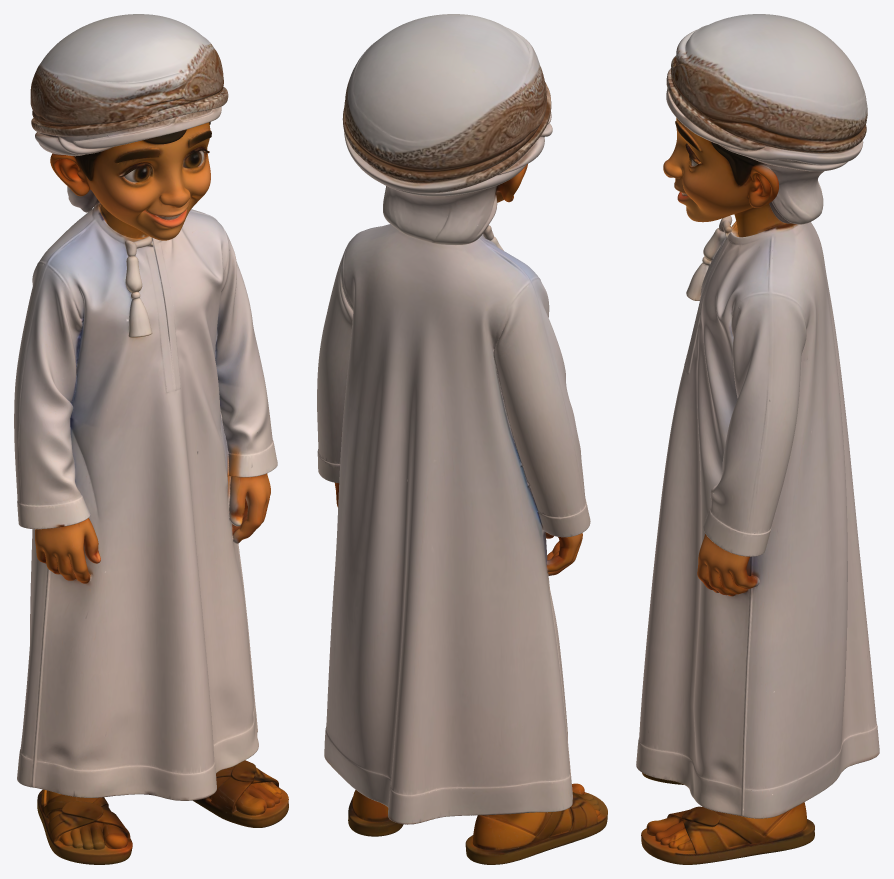
Rendered from hero-mascot.glb.
The picture shows the model from 3 angles, left to right: view 1: azimuth 30°, elevation 25°; view 2: azimuth 150°, elevation 25°; view 3: azimuth 270°, elevation 25°; orthographic projection. The views are drawn at different scales.
Parts seen in each view (by area): view 1: convert; view 2: convert; view 3: convert.
Boxes of the visible parts, x1=… form: convert: x1=14, y1=14, x2=288, y2=864; convert: x1=317, y1=14, x2=607, y2=864; convert: x1=636, y1=14, x2=879, y2=864.
Size of the model in its own units: 0.3885 by 1.13 by 0.3182.
Materials: 1 (1 with a texture image).
